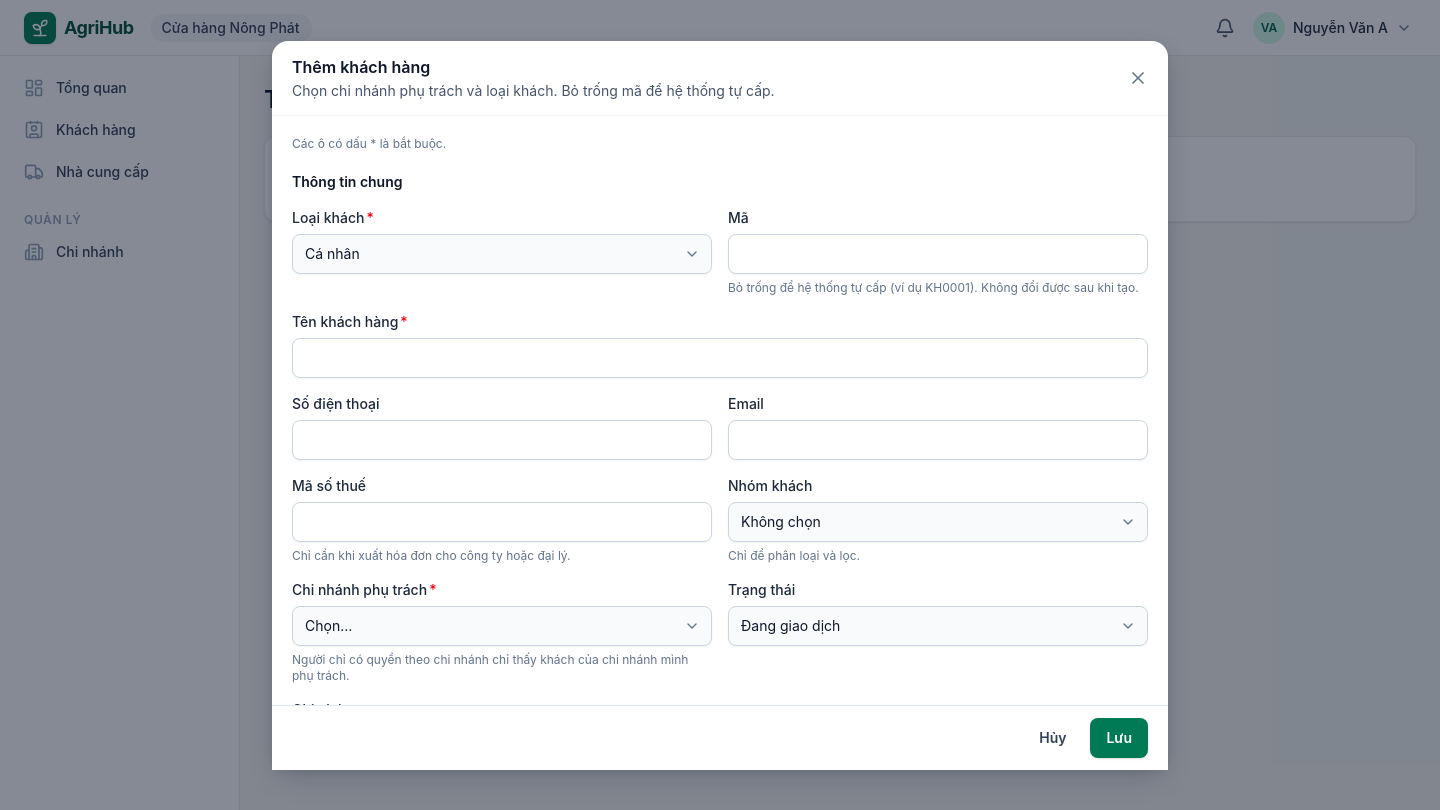
Test case: thêm khách hàng › kiểm tra ngay trên trình duyệt: báo từng ô còn thiếu và không gọi API
Type "123" into the field labelled "Số điện thoại".
click(502, 440); type("123")  # box [292, 420, 712, 460]
(page scrolled)
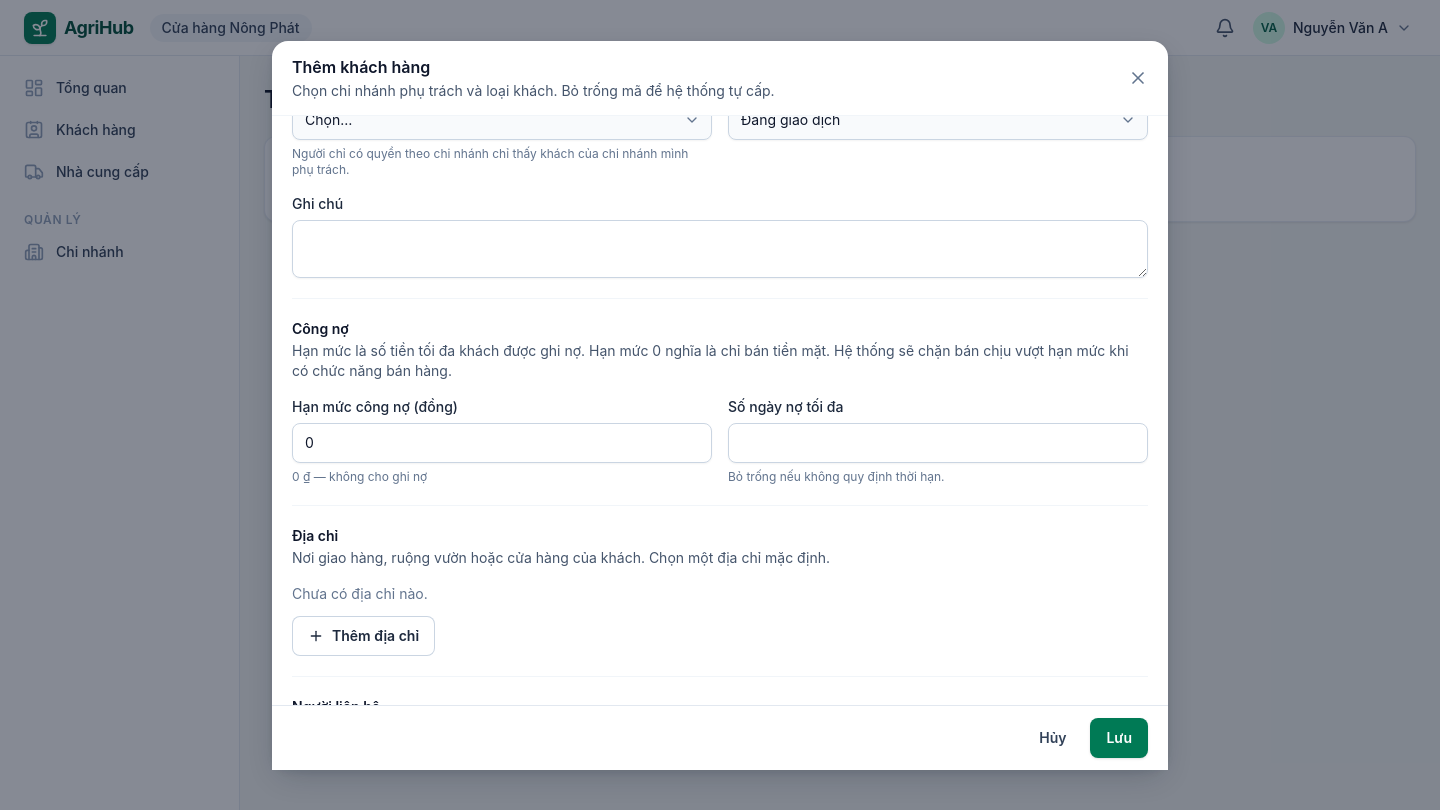
Type "abc" into the field labelled "Hạn mức công nợ (đồng)".
click(502, 442); type("abc")  # box [292, 422, 712, 462]
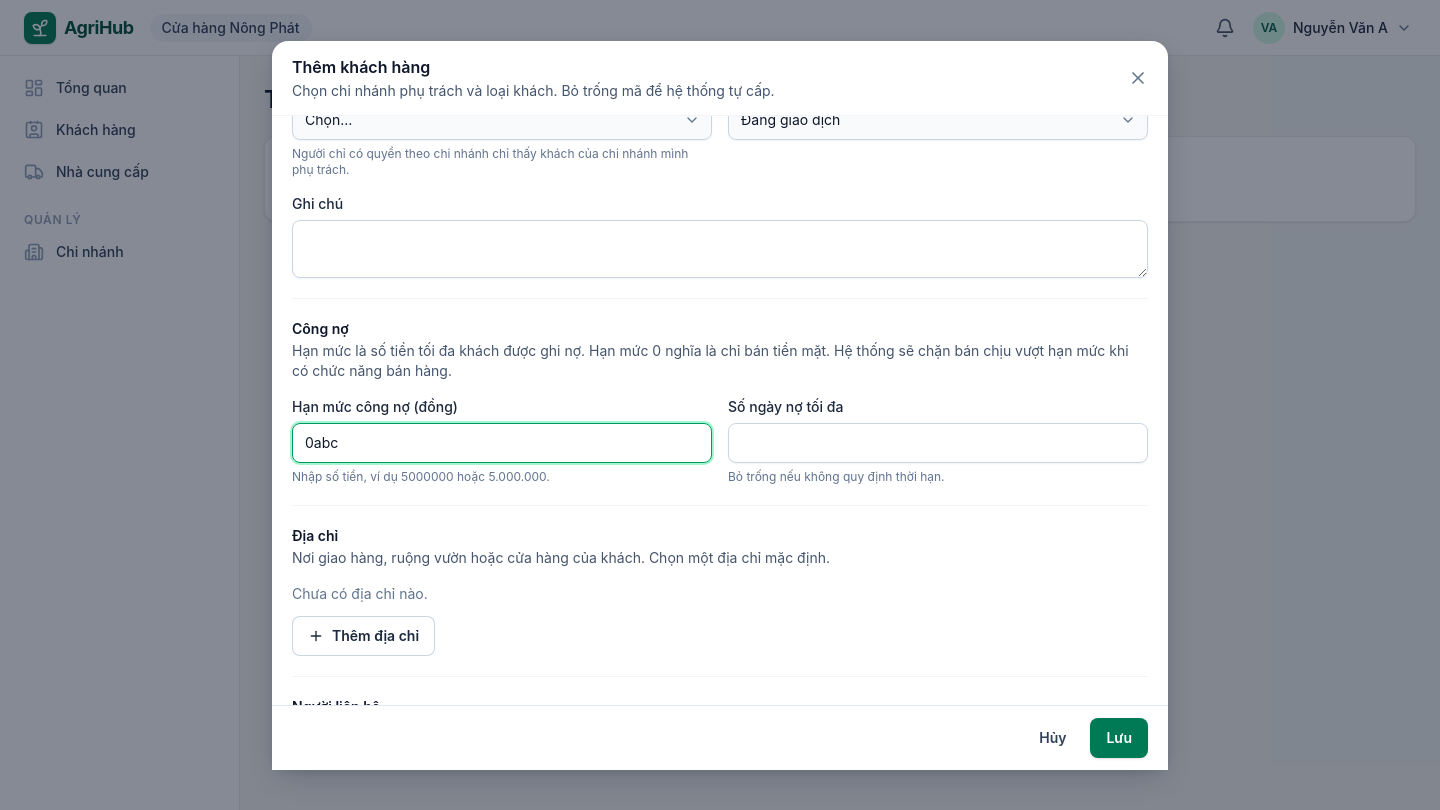
Click the button "Lưu".
click(1119, 738)  # box [1090, 718, 1148, 758]
(page scrolled)
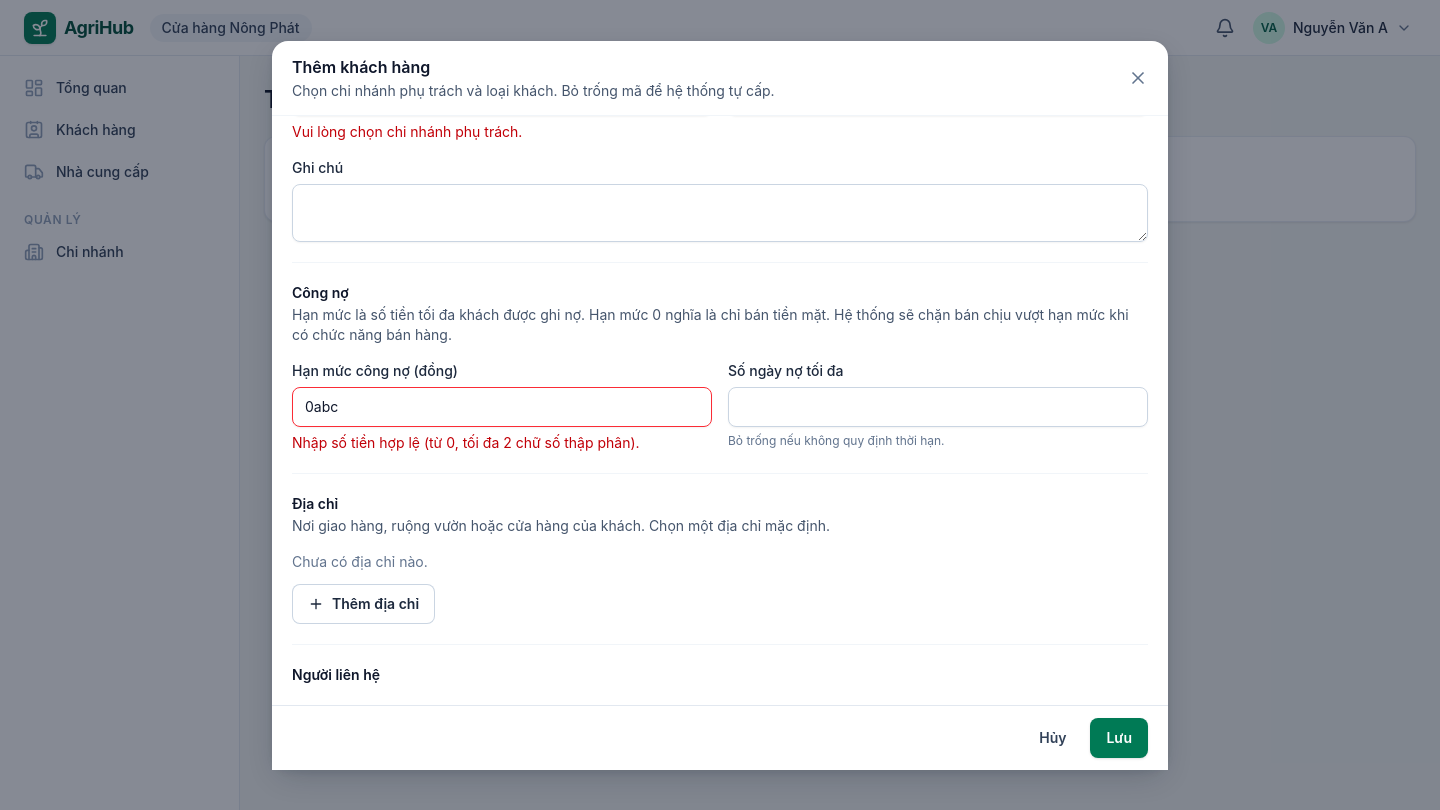
Expected: the text "Vui lòng chọn chi nhánh phụ trách." is shown, [292, 122, 522, 140]
Expected: the text "Nhập số tiền hợp lệ (từ 0, tối đa 2 chữ số thập phân)." is shown, [292, 434, 640, 450]
